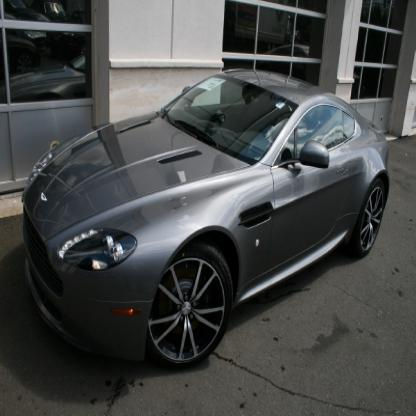Vehicle: (19, 67, 393, 374)
